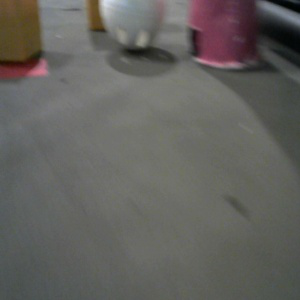right: (188, 1, 263, 70)
